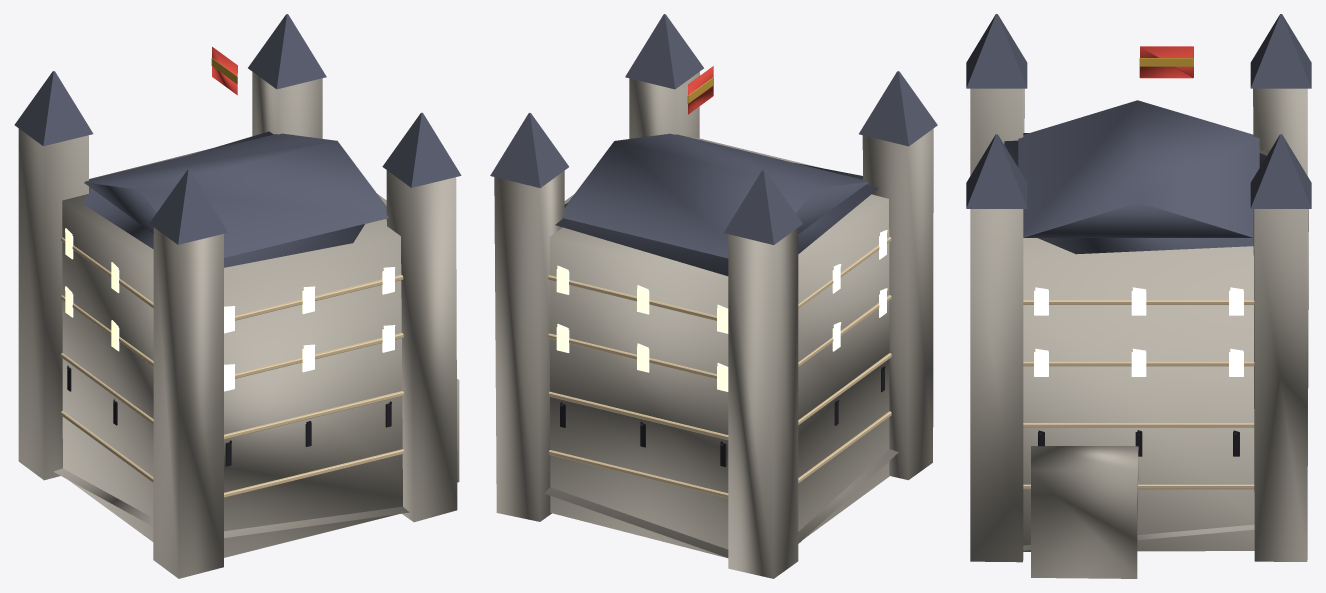
The model's file is castle_keep.glb.
3 views of the same model, side by side, from view 1: azimuth 30°, elevation 25°; view 2: azimuth 150°, elevation 25°; view 3: azimuth 270°, elevation 25° (orthographic). The views are drawn at different scales.
Visible parts, largest first — view 1: castle_keep; view 2: castle_keep; view 3: castle_keep.
Boxes of the visible parts, x1,y1,x2,y2 form: castle_keep: (14,14,461,578); castle_keep: (490,14,937,578); castle_keep: (966,14,1311,578).
Bounding box in the file's own units: 28.18 × 36.28 × 25.52.
Materials: 1 (1 with a texture image).
